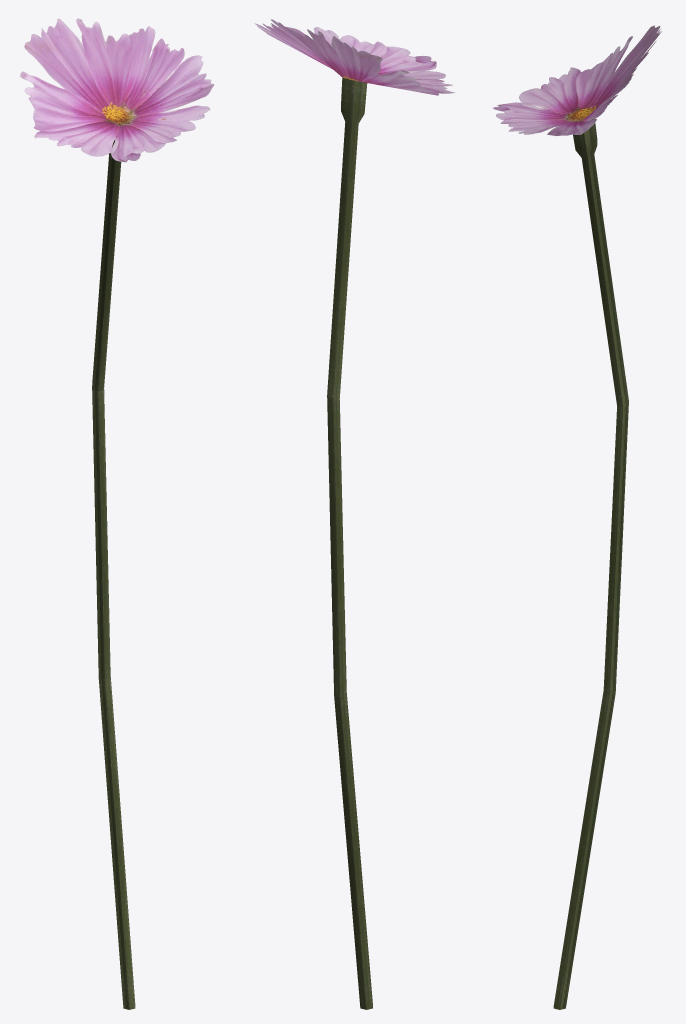
File: purple_flower.dae
The picture shows the model from 3 angles, left to right: view 1: azimuth 30°, elevation 25°; view 2: azimuth 150°, elevation 25°; view 3: azimuth 270°, elevation 25°; orthographic projection. The views are drawn at different scales.
Visible parts, largest first — view 1: polySurface6; view 2: polySurface6; view 3: polySurface6.
Boxes of the visible parts, x1=… form: polySurface6: x1=20, y1=18, x2=214, y2=1009; polySurface6: x1=254, y1=19, x2=454, y2=1009; polySurface6: x1=493, y1=25, x2=661, y2=1009.
Bounding box in the file's own units: 0.0252 × 0.1142 × 0.0197.
